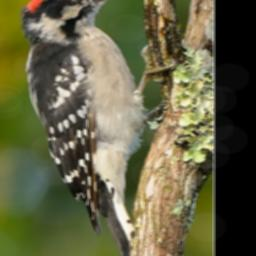Woodpecker: (16, 0, 171, 256)
